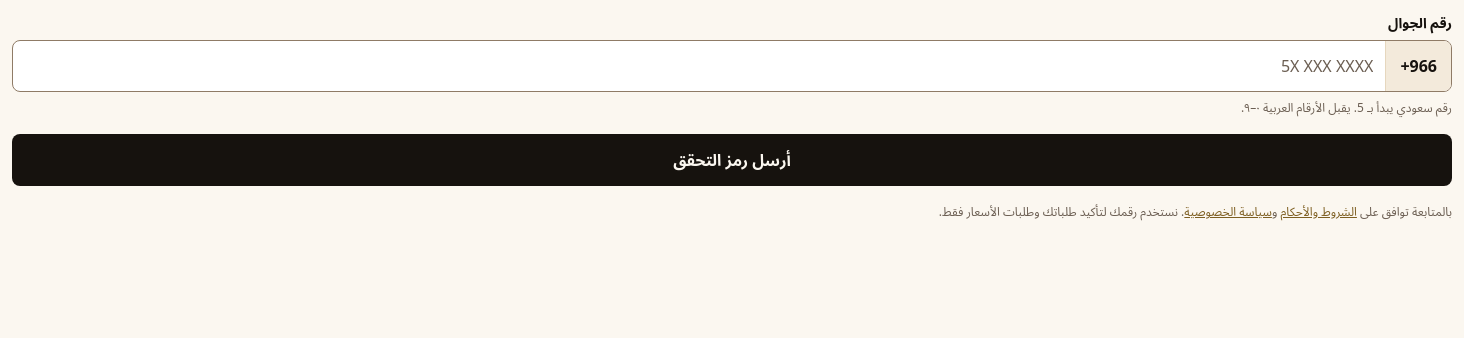
it: CustomerLoginForm › rate limited: shows the countdown from retryAt
The width and height of the screenshot is (1464, 338).
Type "551234567" into the field labelled "رقم الجوال".
click(699, 66); type("551234567")  # box [13,41,1385,91]
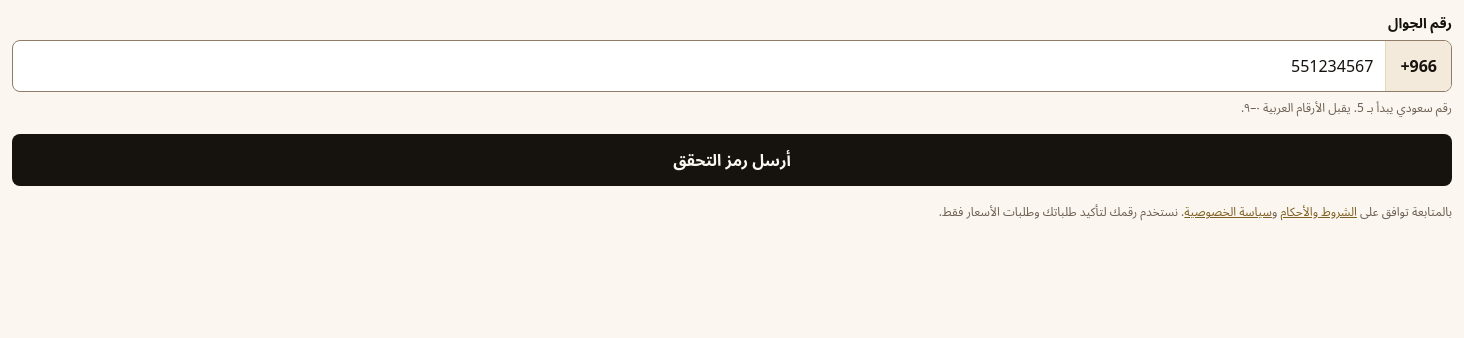
Click the button "أرسل رمز التحقق".
click(732, 160)  # box [12,134,1452,186]
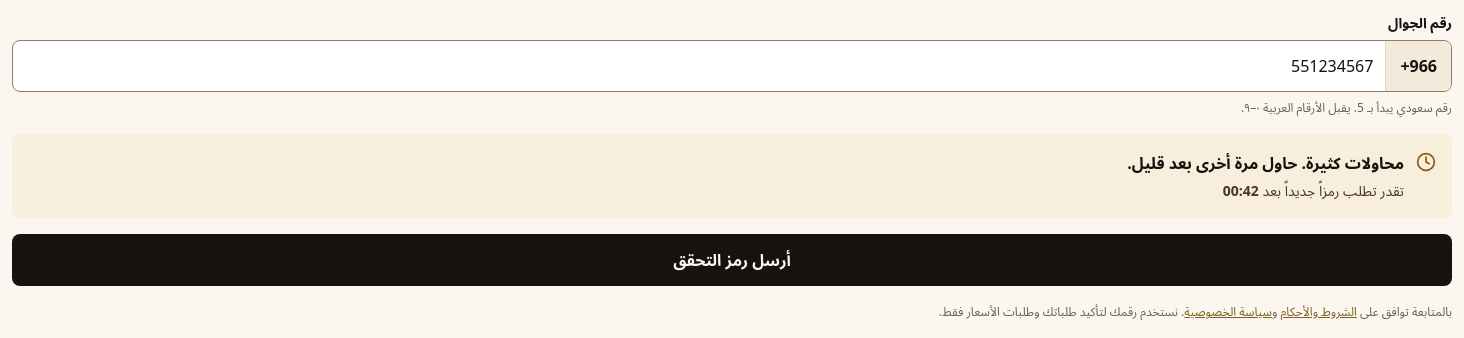
expect the message shows "محاولات كثيرة": met, box [1127,152,1404,174]
expect the message reads "محاولات كثيرة. حاول مرة أخرى بعد قليل. تقدر تطلب رمزاً جديداً بعد 00:42": met, box [1223,181,1259,200]
